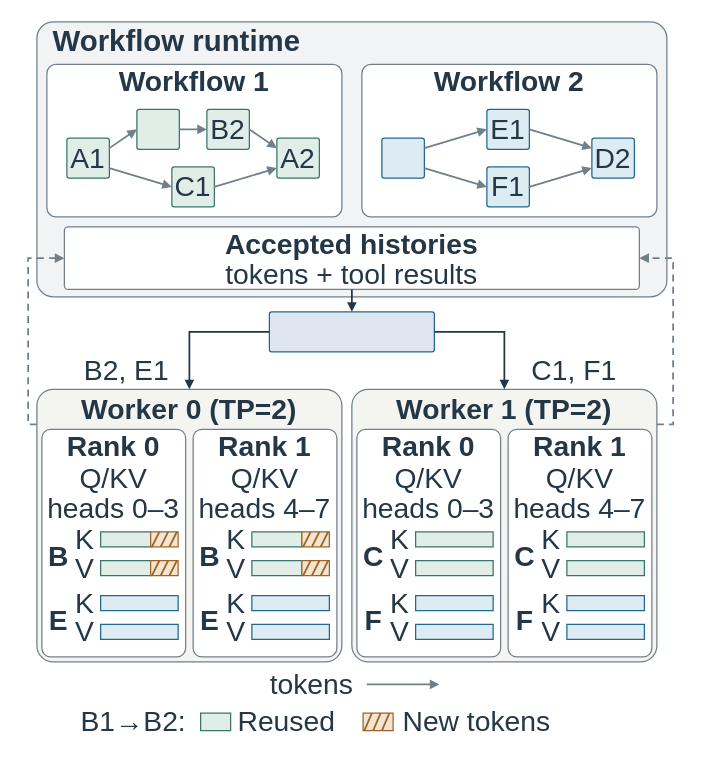
Some shapes in this 704 by 764 pixel diagram are drawn without their labels. Each missing label, with the centre of its shape:
B1: the point at 157,128
D1: the point at 402,157
Router: the point at 351,331
